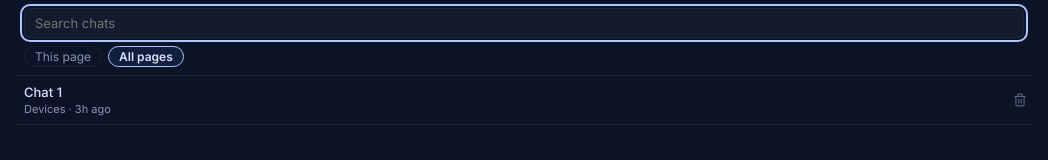
Test: AiChatHistory search and scope › says there is nothing on this page when the page has no saved chats
Expected: the button with test id "ai-chat-history-item-1" is shown, x1=12 y1=76 x2=1004 y2=124
Click the button with test id "ai-chat-history-scope-page" at (63,56), box x1=24 y1=46 x2=102 y2=67
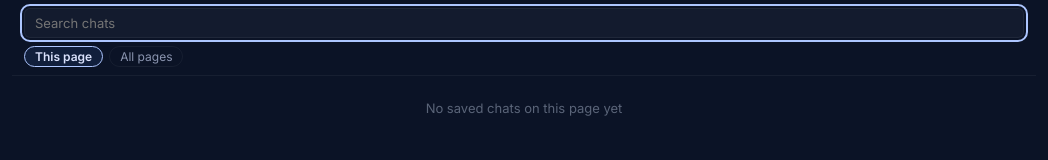
Now the element with test id "ai-chat-history-empty" shows "No saved chats on this page", box x1=426 y1=100 x2=622 y2=116
